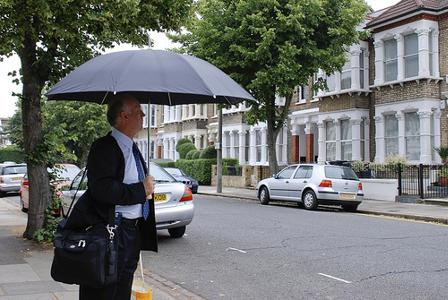person: (78, 94, 159, 300)
